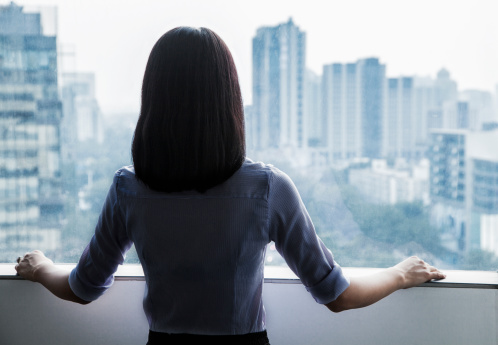em pe: (7, 57, 439, 345)
